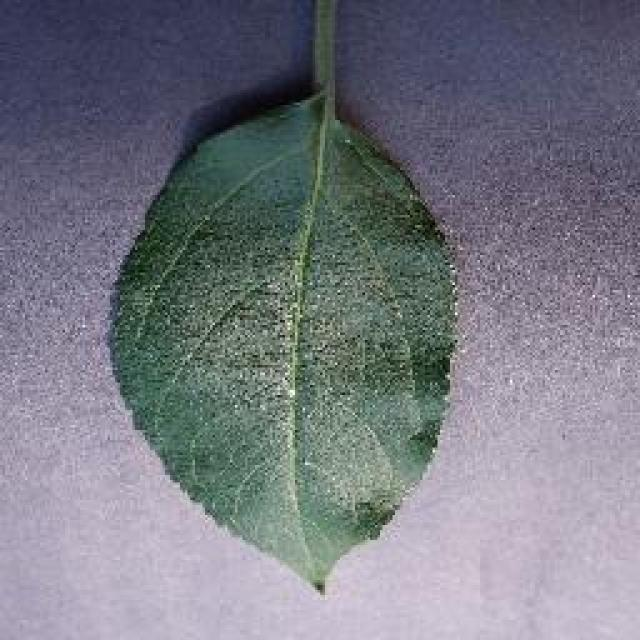apple healthy: (105, 88, 463, 592)
